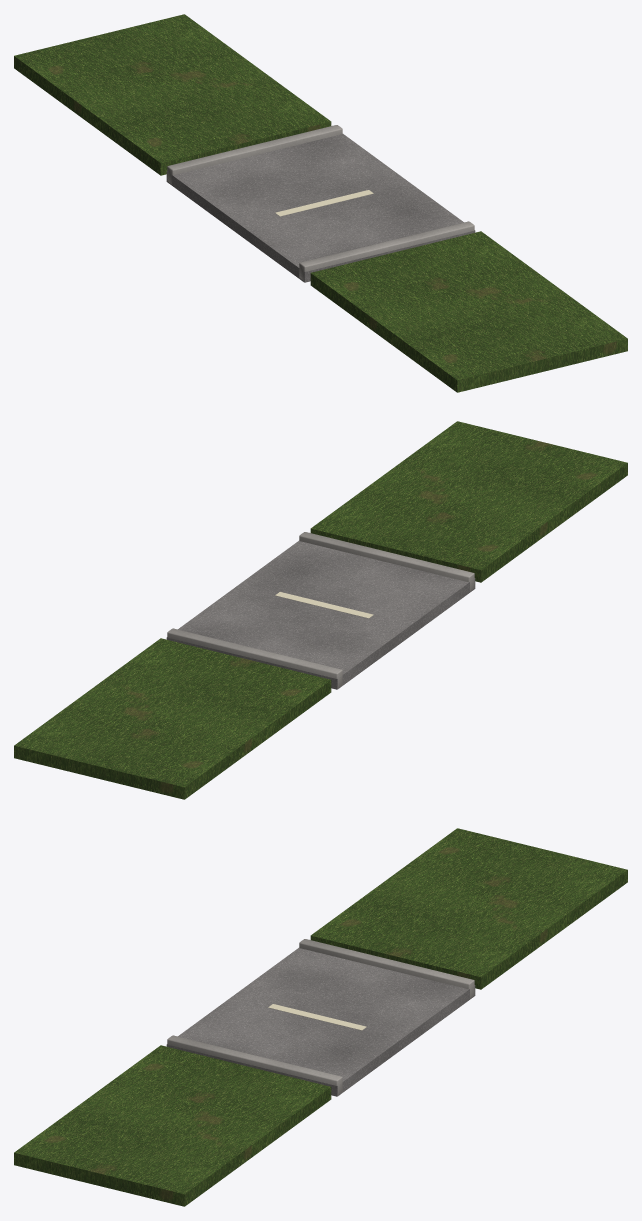
Rendered from road_tile.fbx.
The picture shows the model from 3 angles, top to bottom: view 1: azimuth 30°, elevation 25°; view 2: azimuth 150°, elevation 25°; view 3: azimuth 330°, elevation 25°; orthographic projection.
Parts seen in each view (by area): view 1: road_tile; view 2: road_tile; view 3: road_tile.
Part boxes in pixels (x1,y1,x2,y2): road_tile: (14, 14, 627, 392); road_tile: (14, 421, 627, 799); road_tile: (14, 828, 627, 1206).
Size of the model in its own units: 2 by 0.18 by 9.
